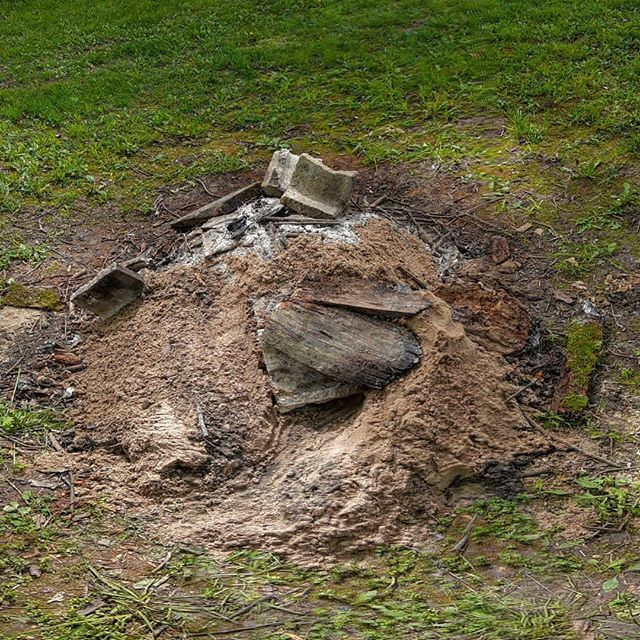grass: (16, 1, 640, 169)
trash: (13, 152, 606, 523)
